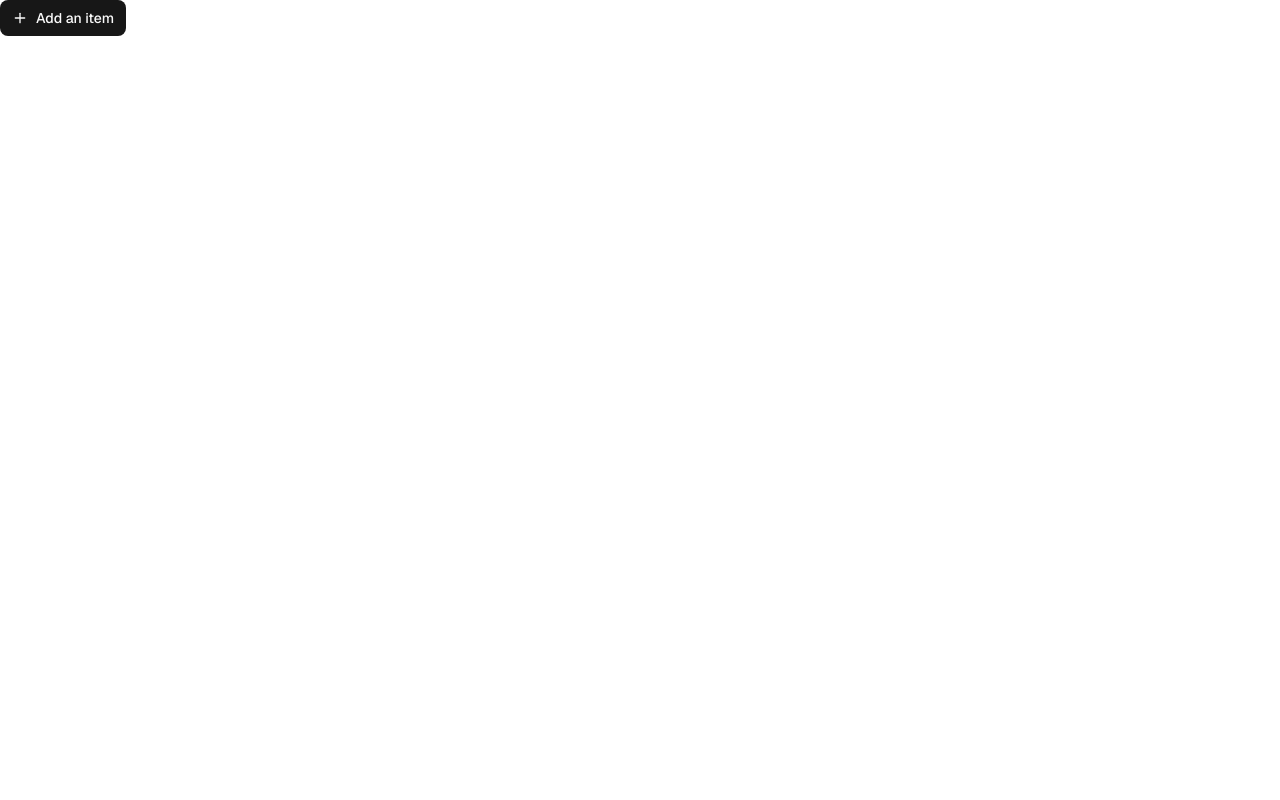
Scenario: BucketItemDialog (add) › lets any member type their own tags with the button or Enter
Later steps or results of the test are not shown.
Click the button "Add an item".
click(63, 18)  # box [0,0,126,36]
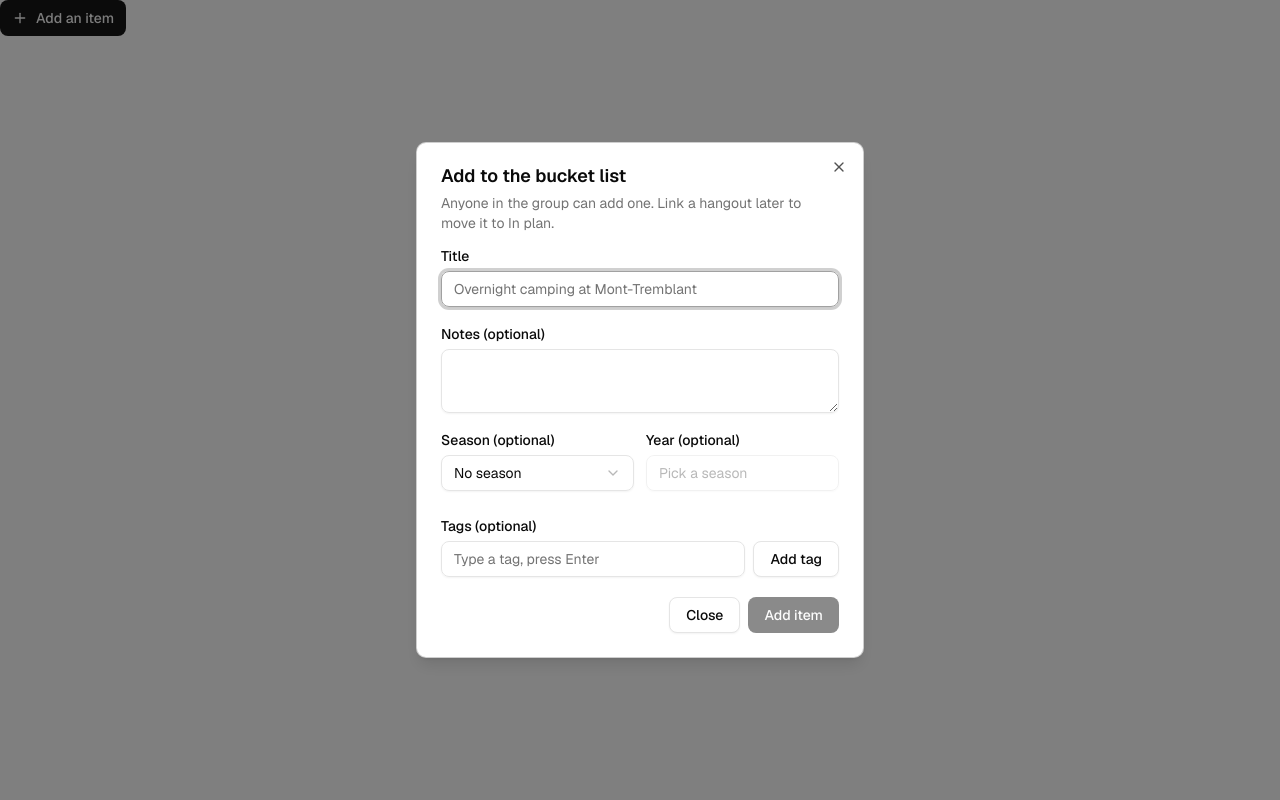
Type "games" into the field named "New tag".
click(593, 559); type("games")  # box [441,541,745,577]
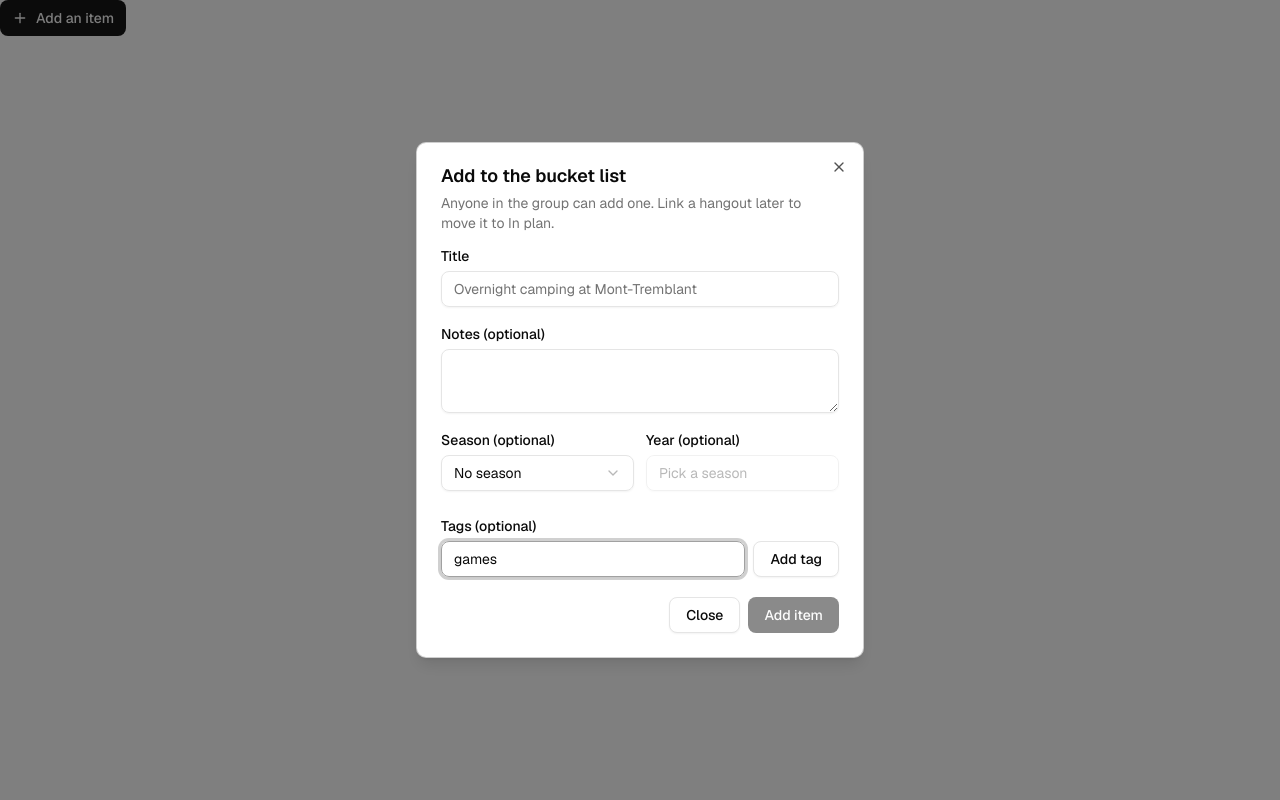
Click the button "Add tag".
click(796, 559)  # box [753,541,839,577]
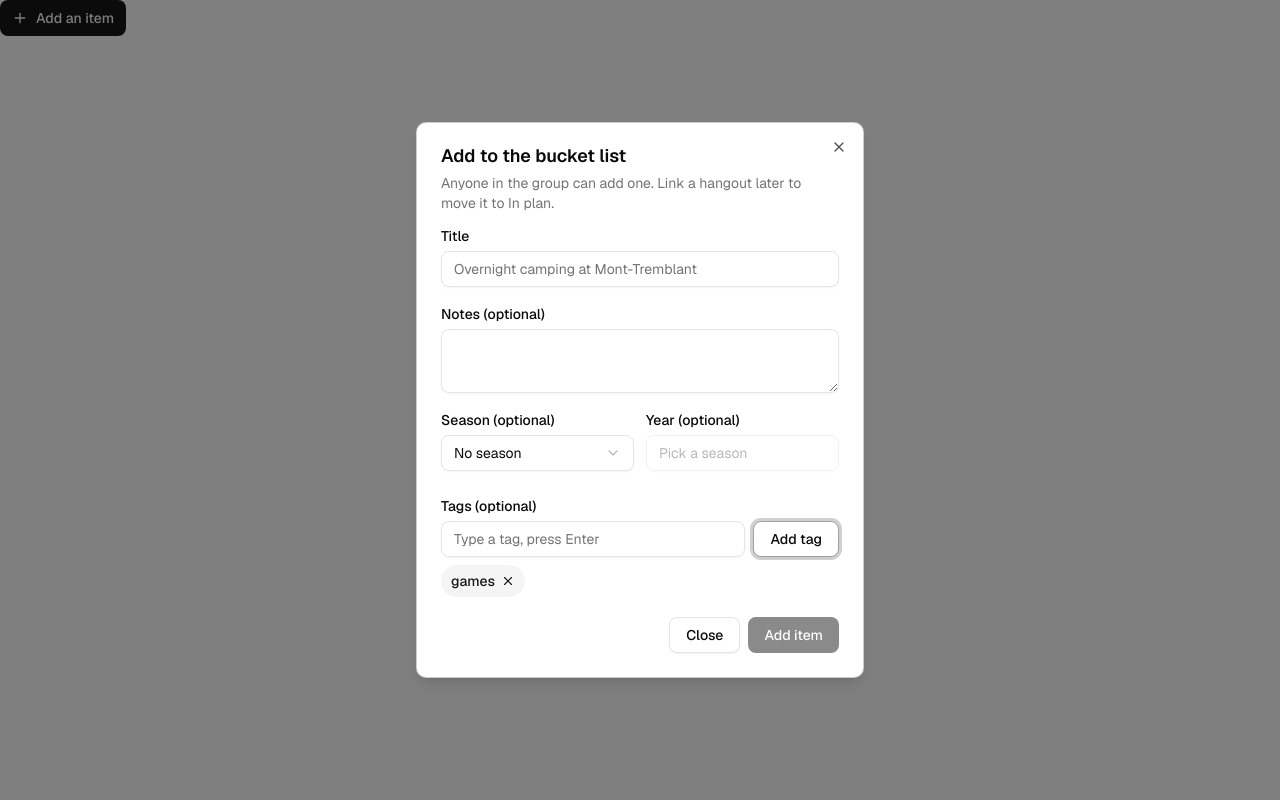
Expected: the button with aria-label "Remove tag games" is shown, [441,565,525,597]
Expected: the field named "New tag" is empty
Type "night  market" into the field named "New tag".
click(593, 539); type("night  market")  # box [441,521,745,557]
Then press Enter
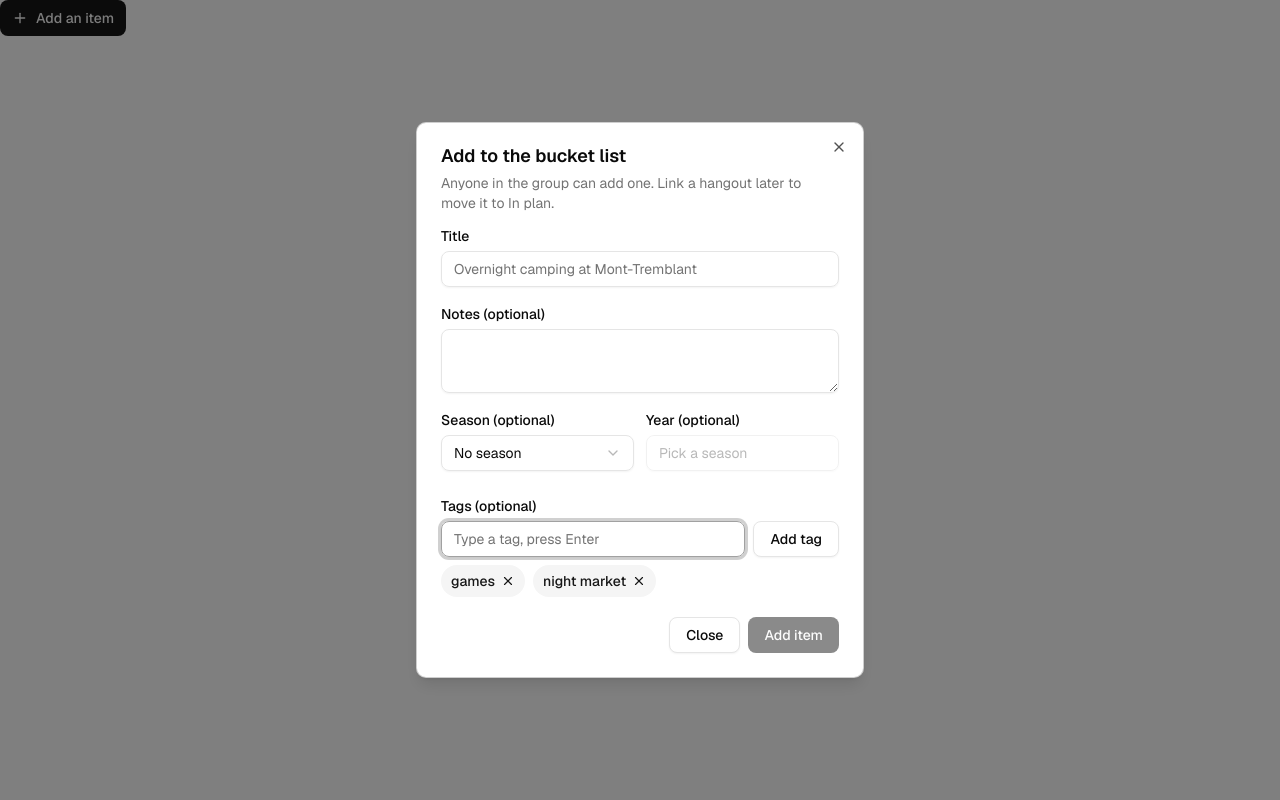
Expected: the button with aria-label "Remove tag night market" is shown, [533,565,656,597]
